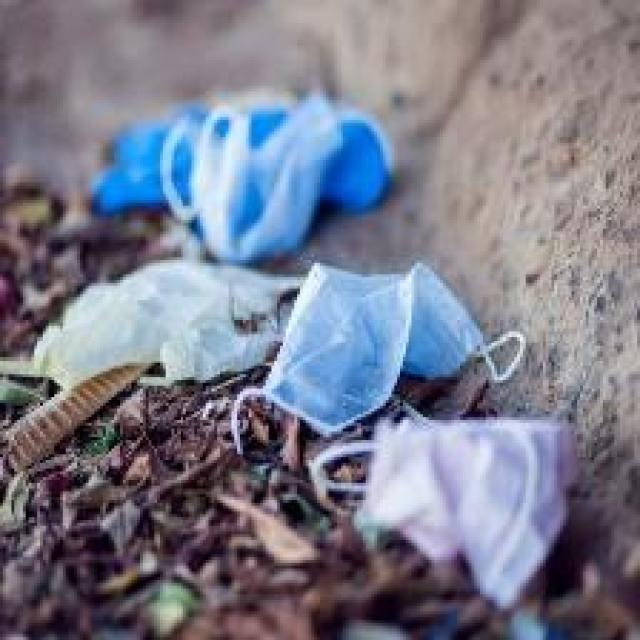Mask: (104, 40, 407, 269), (282, 242, 574, 440), (313, 404, 587, 609)
